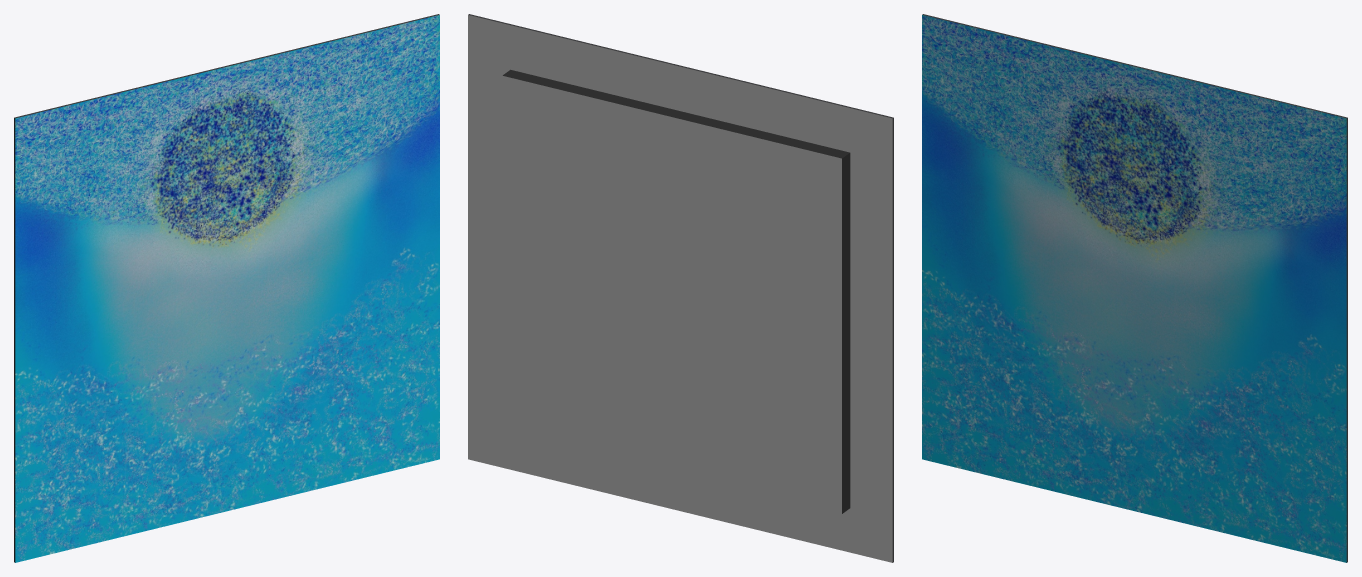
Rendered from va365_moyen_dibond.glb.
3 views of the same model, side by side, from view 1: azimuth 30°, elevation 25°; view 2: azimuth 150°, elevation 25°; view 3: azimuth 330°, elevation 25° (orthographic).
Parts seen in each view (by area): view 1: va365_moyen_dibond; view 2: va365_moyen_dibond; view 3: va365_moyen_dibond.
Part boxes in pixels (box(x1,y1,x2,y2)): va365_moyen_dibond: box(14, 14, 439, 562); va365_moyen_dibond: box(468, 14, 893, 562); va365_moyen_dibond: box(922, 14, 1347, 562).
Size of the model in its own units: 0.6 by 0.6 by 0.023.
Materials: 4 (1 with a texture image).
